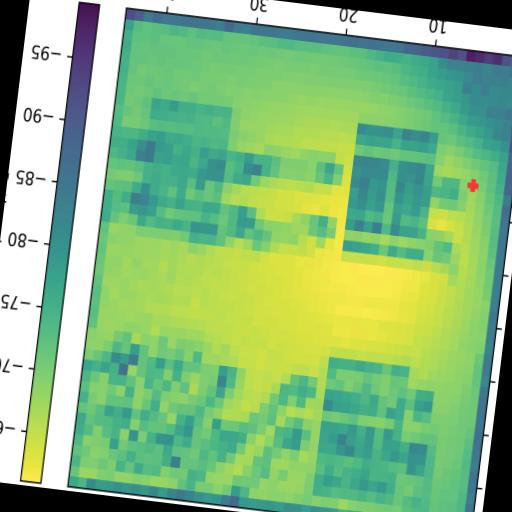Concrete: (98, 332, 204, 478)
Glass: (311, 358, 410, 506)
Metal: (134, 98, 233, 246)
Wood: (342, 123, 439, 262)
